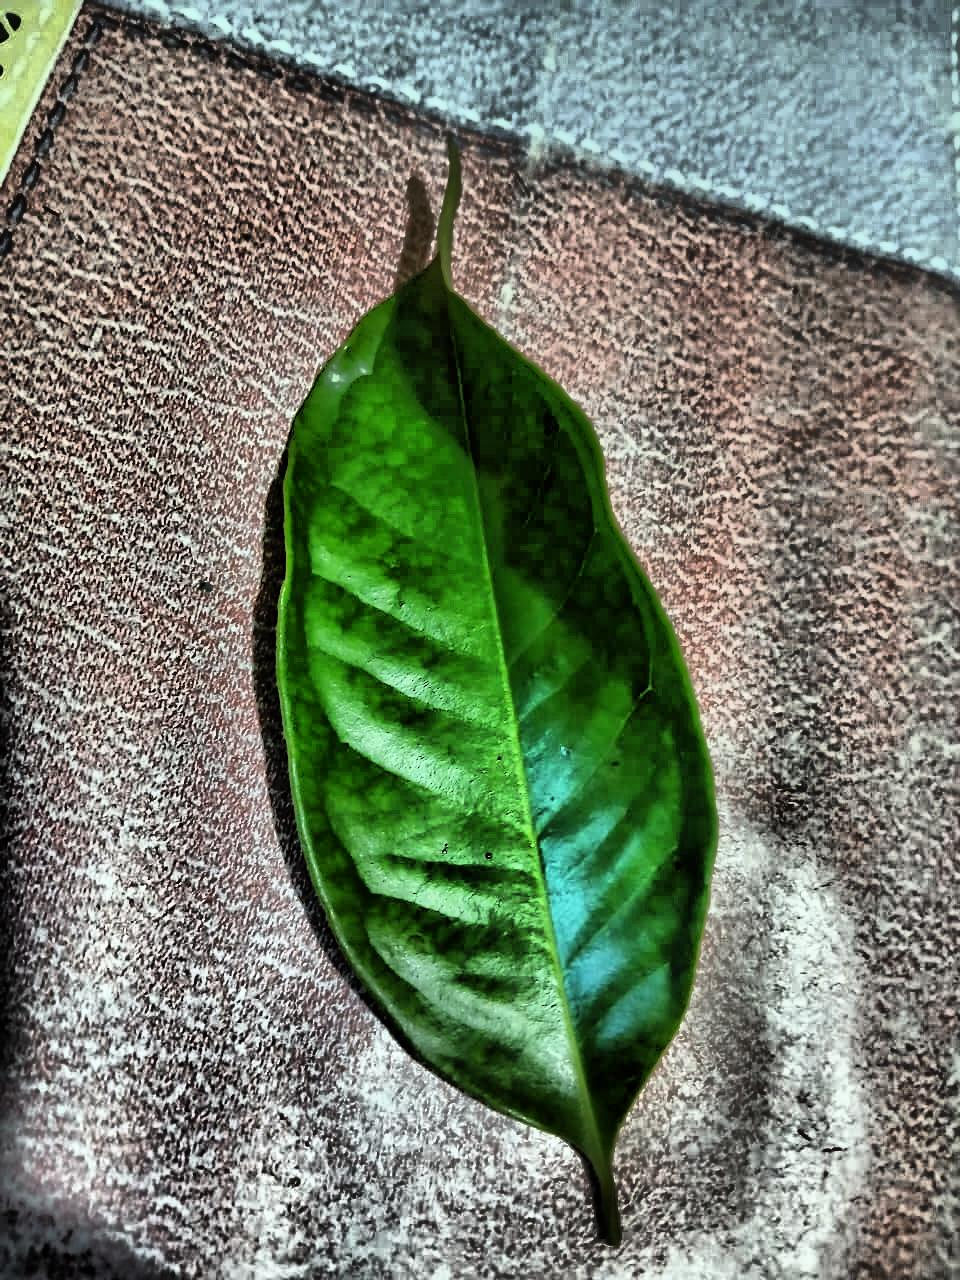daun salam: (276, 146, 717, 1242)
